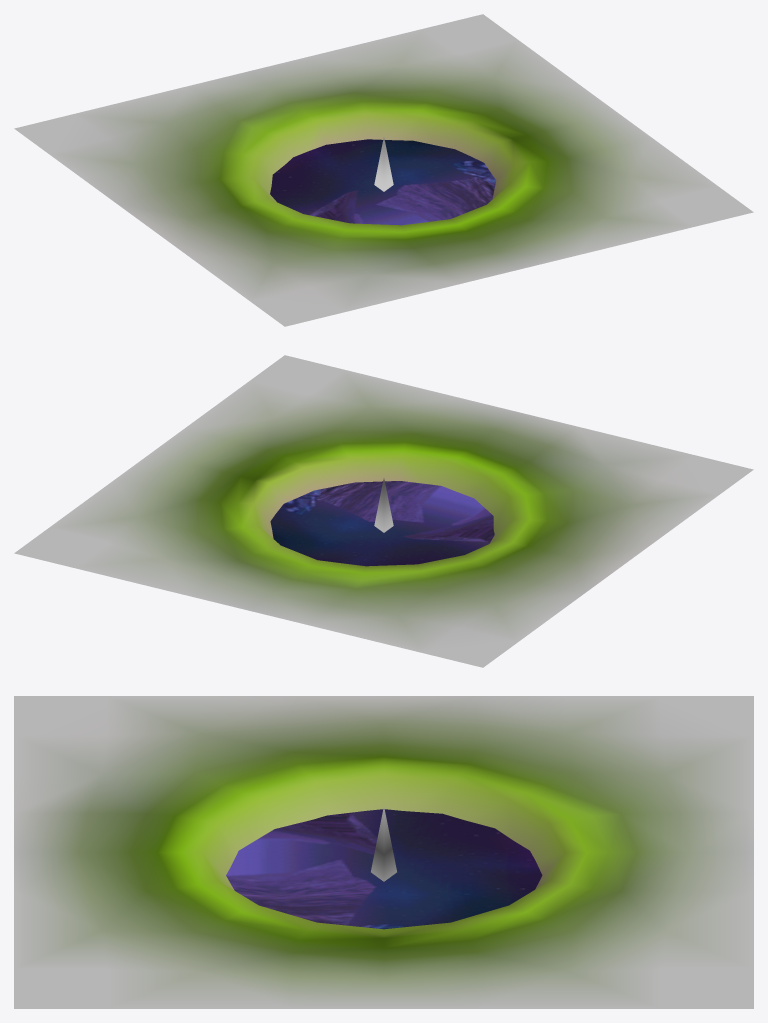
Rendered from tepool01.fbx.
3 renders of one model, top to bottom at view 1: azimuth 30°, elevation 25°; view 2: azimuth 150°, elevation 25°; view 3: azimuth 270°, elevation 25°, orthographic. The views are drawn at different scales.
Visible parts, largest first — view 1: grid1, chrome, hp_emit_1; view 2: grid1, chrome, hp_emit_1; view 3: grid1, chrome, hp_emit_1.
Part boxes in pixels (box(x1,y1,x2,y2)): grid1: box(14, 14, 753, 326); chrome: box(270, 139, 496, 225); hp_emit_1: box(374, 137, 393, 191); grid1: box(14, 355, 753, 667); chrome: box(270, 481, 494, 566); hp_emit_1: box(374, 478, 393, 532); grid1: box(14, 696, 753, 1008); chrome: box(226, 809, 542, 929); hp_emit_1: box(371, 807, 396, 881).
Bounding box in the file's own units: 32 × 6.43 × 32.
